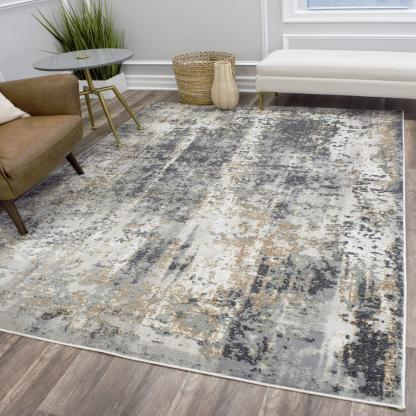Carpet: (1, 100, 404, 410)
